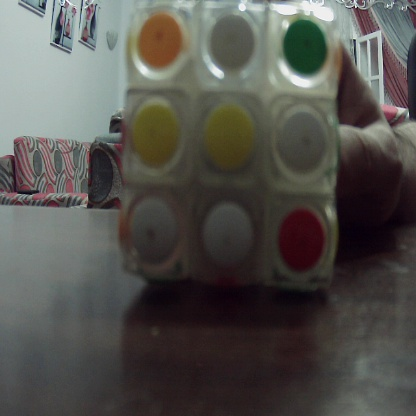Rubix Cube: (127, 7, 336, 290)
